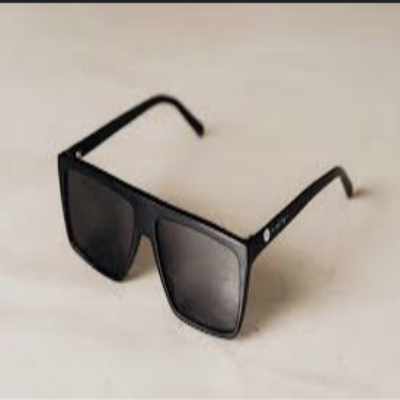glasses: (54, 90, 357, 344)
